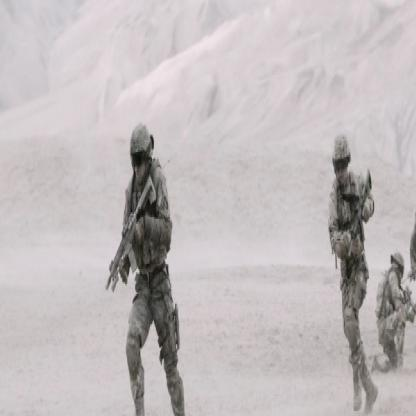Gun: (102, 166, 158, 298), (341, 164, 376, 266), (401, 260, 415, 290)
